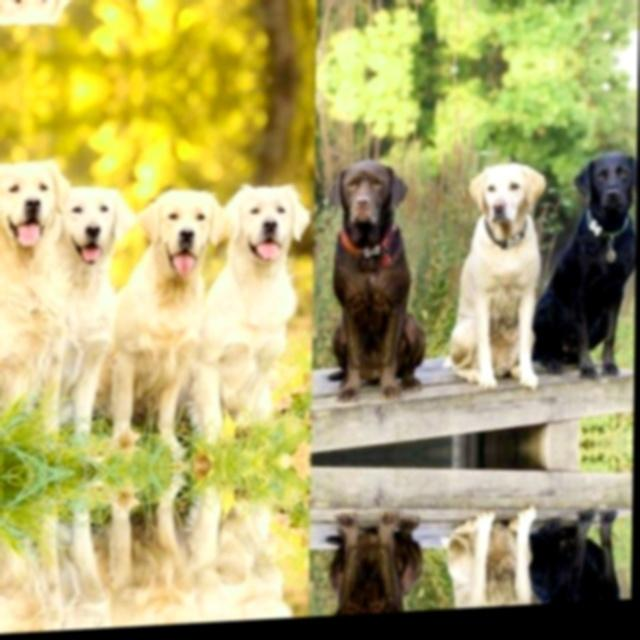dog: (331, 138, 437, 440), (437, 143, 539, 428), (213, 170, 308, 463), (536, 120, 638, 390), (128, 165, 218, 452), (45, 154, 131, 452), (328, 470, 432, 616), (210, 460, 303, 622), (434, 469, 534, 610), (126, 481, 213, 626), (42, 491, 126, 632), (532, 496, 632, 604), (51, 0, 134, 22)
